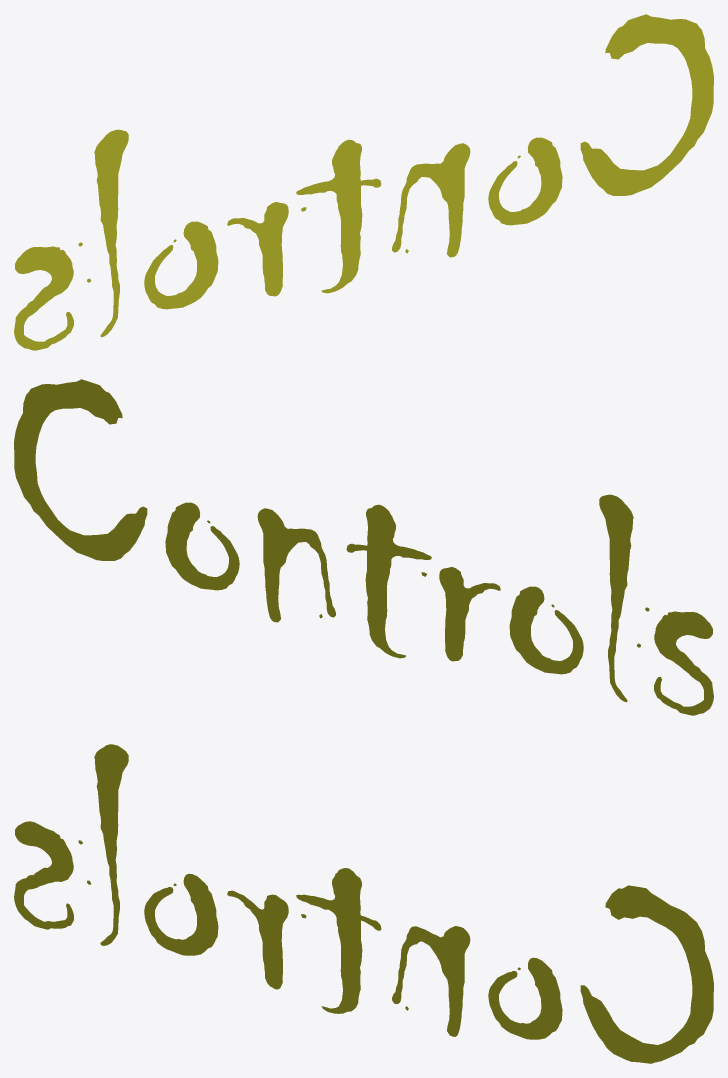
File: controlsPauseMenuButtonText.obj
The picture shows the model from 3 angles, top to bottom: view 1: azimuth 30°, elevation 25°; view 2: azimuth 150°, elevation 25°; view 3: azimuth 330°, elevation 25°; orthographic projection.
Visible parts, largest first — view 1: controlsPauseMenuButtonText; view 2: controlsPauseMenuButtonText; view 3: controlsPauseMenuButtonText.
Part boxes in pixels (x1,y1,x2,y2): controlsPauseMenuButtonText: (14, 14, 713, 350); controlsPauseMenuButtonText: (14, 379, 713, 715); controlsPauseMenuButtonText: (14, 744, 713, 1063).
Size of the model in its own units: 2.08 by 0.6102 by 0.
